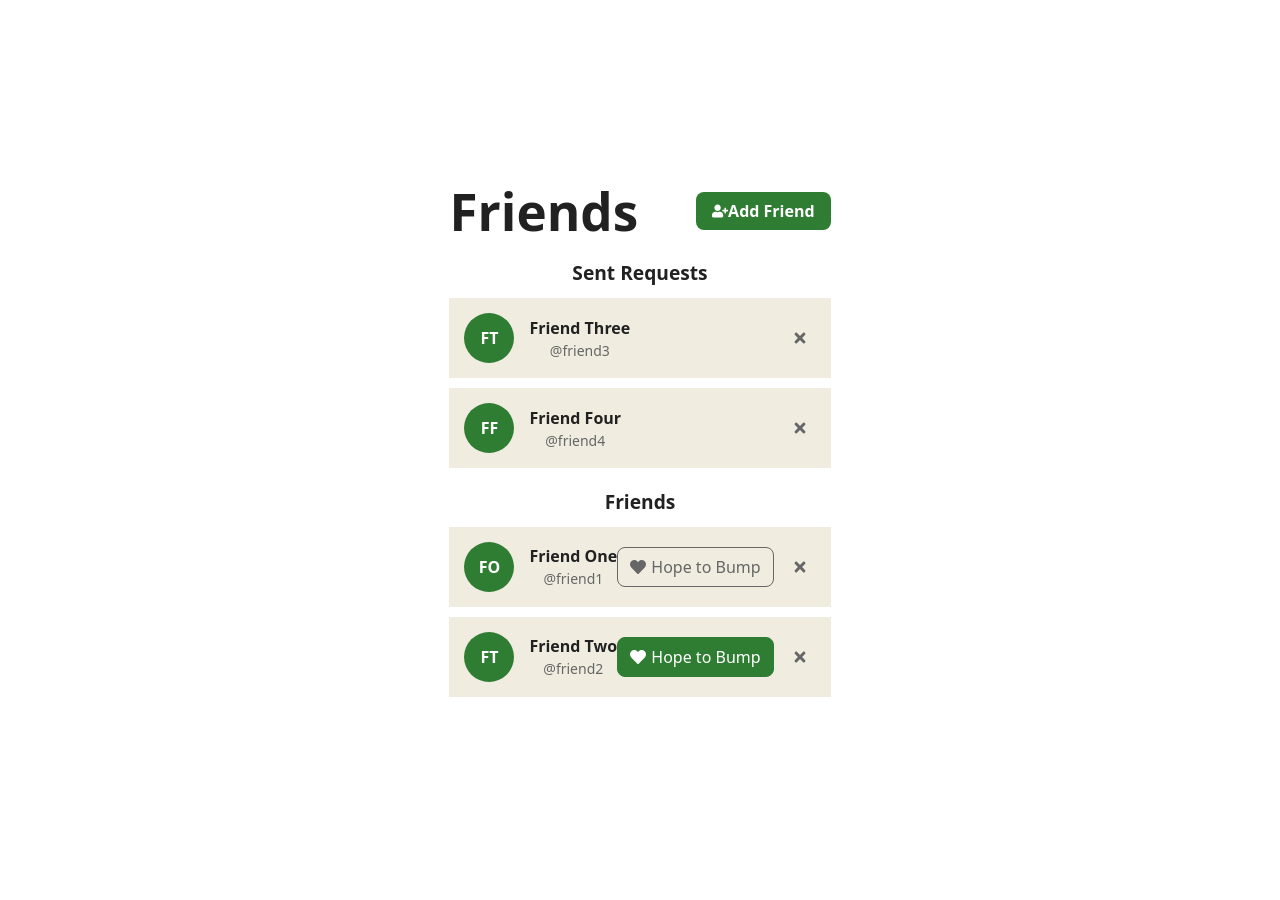
Friends Page › shows the add friend form when add button is clicked
Check: the heading "Sent Requests" is shown, box [572,259,708,286]
Check: the 1st heading "Friends" is shown, box [449,183,638,239]
// Click the add friend button
Click the button with test id "add-friend-button": (763, 211) [696,192,831,230]
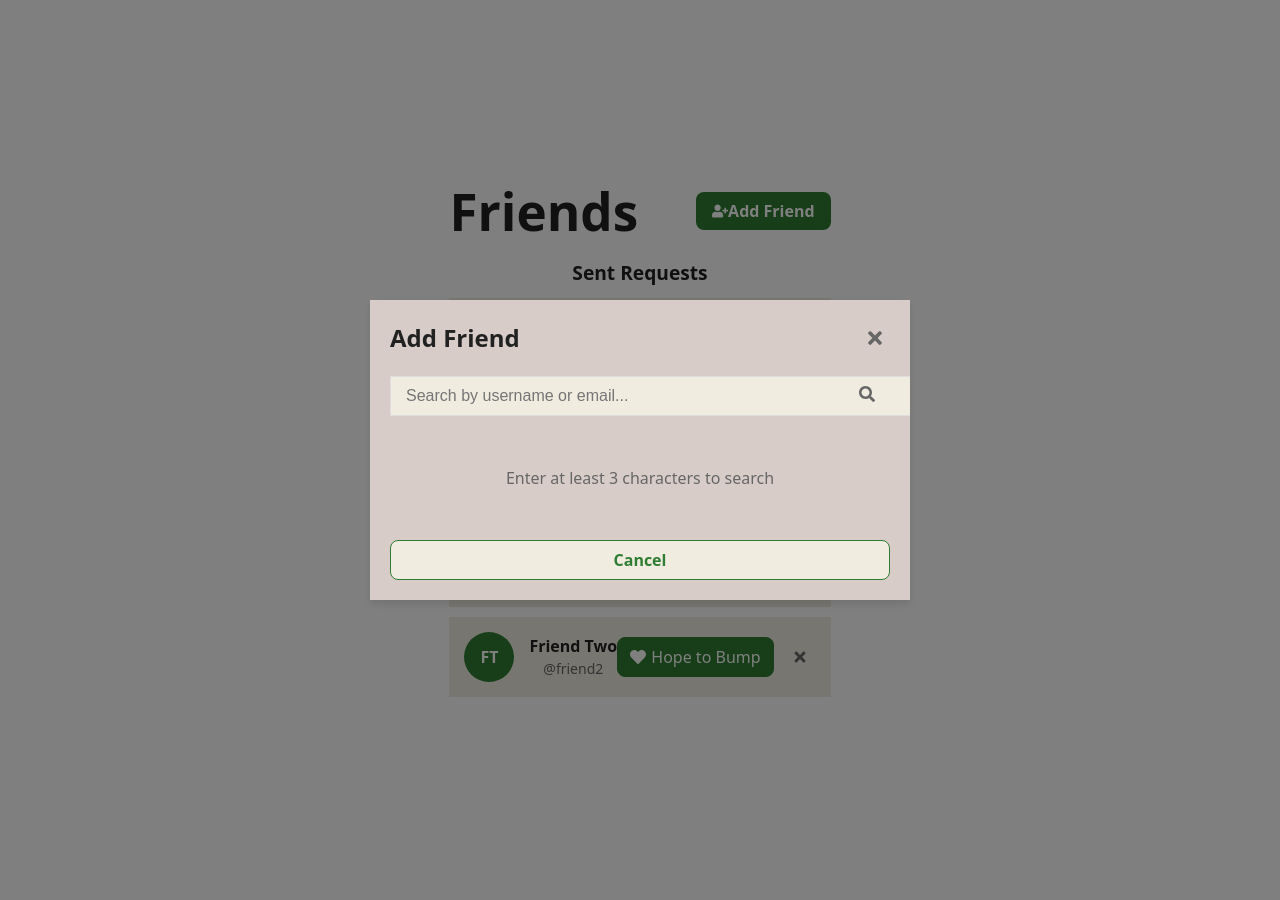
Check: the element with test id "user-selector" is shown
